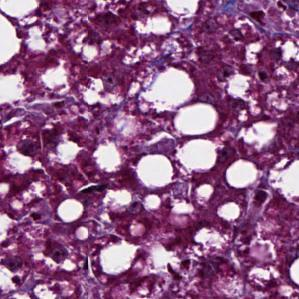steatosis: (130, 149, 178, 189), (175, 99, 220, 136), (223, 159, 262, 188)
